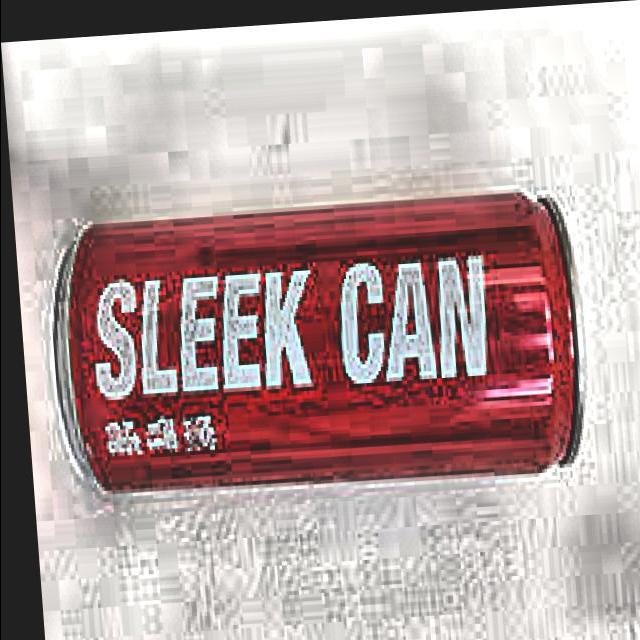litter: (36, 172, 598, 510)
